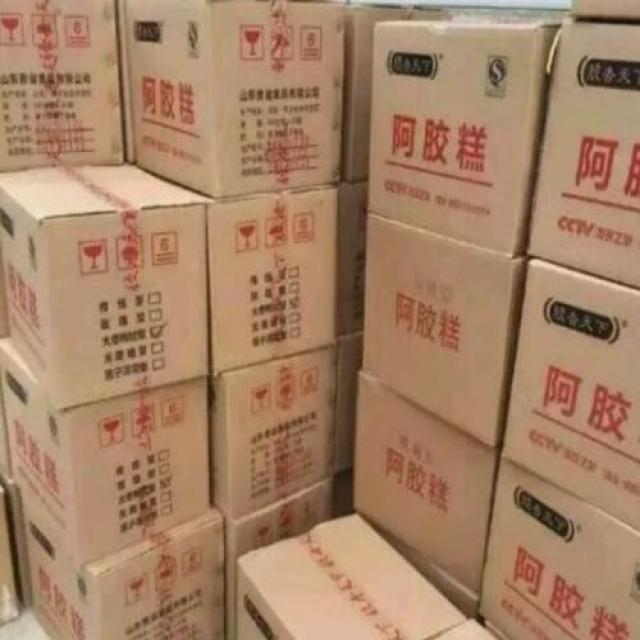box: (1, 164, 210, 414), (1, 336, 211, 569), (367, 20, 563, 258), (125, 0, 346, 199), (360, 211, 525, 449), (502, 258, 640, 533), (353, 370, 495, 596), (18, 488, 225, 638), (525, 17, 639, 289), (480, 458, 640, 640), (236, 512, 467, 638), (206, 184, 339, 378), (210, 346, 338, 523), (1, 2, 127, 173), (340, 0, 454, 185), (225, 476, 333, 638), (357, 512, 481, 619), (338, 181, 369, 336), (0, 467, 31, 608), (335, 333, 361, 476), (116, 0, 134, 166), (0, 483, 20, 626), (572, 0, 639, 24), (426, 619, 502, 640), (0, 390, 13, 476)
